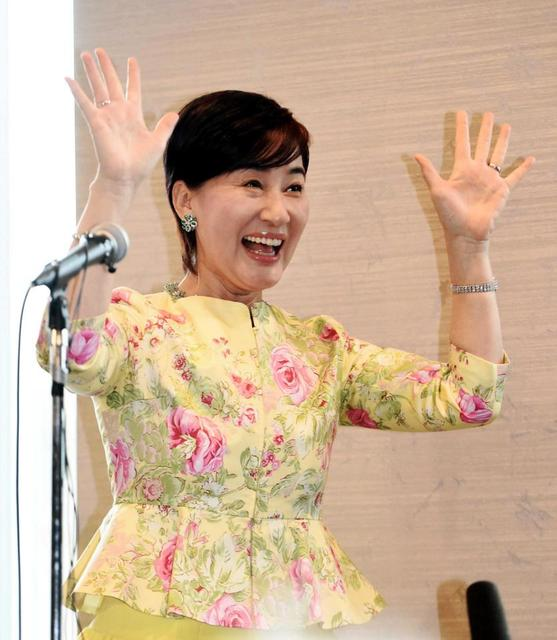face: (170, 144, 307, 289)
hand: (416, 104, 536, 245), (65, 45, 180, 185)
